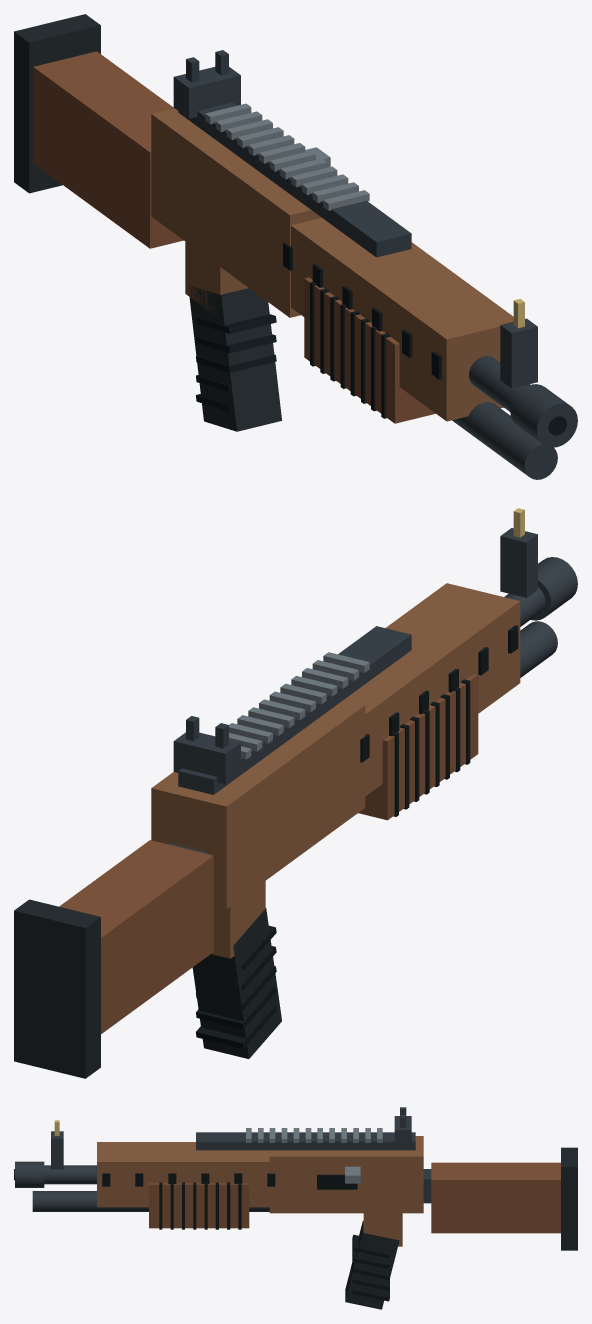
File: shotgun_01_warden.glb
3 renders of one model, top to bottom at view 1: azimuth 30°, elevation 25°; view 2: azimuth 150°, elevation 25°; view 3: azimuth 270°, elevation 25°, orthographic. The views are drawn at different scales.
Parts seen in each view (by area): view 1: handguard, stock_body, receiver, grip, buttpad, pump_foregrip, upper_rail, tube_magazine, muzzle_device, rear_sight_base, front_sight_base, grip_tang (+4 smaller); view 2: receiver, stock_body, handguard, buttpad, grip, pump_foregrip, upper_rail, rear_sight_base, front_sight_base, grip_tang, muzzle_device, tube_magazine (+1 smaller); view 3: stock_body, receiver, handguard, pump_foregrip, upper_rail, grip, buttpad, tube_magazine, barrel, grip_tang, muzzle_device, ejection_port (+4 smaller).
Part boxes in pixels (bbox=[...]): handguard: bbox=[291, 218, 513, 421]; stock_body: bbox=[33, 51, 183, 248]; receiver: bbox=[151, 108, 321, 317]; grip: bbox=[188, 285, 281, 431]; buttpad: bbox=[14, 14, 100, 193]; pump_foregrip: bbox=[304, 277, 435, 423]; upper_rail: bbox=[178, 102, 411, 257]; tube_magazine: bbox=[452, 402, 557, 479]; muzzle_device: bbox=[510, 384, 577, 447]; rear_sight_base: bbox=[173, 67, 240, 118]; front_sight_base: bbox=[500, 318, 537, 388]; grip_tang: bbox=[185, 241, 248, 315]; receiver: bbox=[151, 700, 365, 909]; stock_body: bbox=[59, 840, 213, 1033]; handguard: bbox=[344, 583, 520, 796]; buttpad: bbox=[14, 899, 100, 1078]; grip: bbox=[192, 908, 281, 1058]; pump_foregrip: bbox=[358, 674, 478, 820]; upper_rail: bbox=[178, 626, 411, 794]; rear_sight_base: bbox=[173, 732, 240, 784]; front_sight_base: bbox=[500, 528, 537, 597]; grip_tang: bbox=[211, 881, 265, 958]; muzzle_device: bbox=[530, 557, 577, 620]; tube_magazine: bbox=[520, 621, 557, 677]; stock_body: bbox=[431, 1162, 560, 1233]; receiver: bbox=[269, 1136, 423, 1213]; handguard: bbox=[97, 1142, 269, 1207]; pump_foregrip: bbox=[149, 1183, 249, 1228]; upper_rail: bbox=[196, 1132, 415, 1150]; grip: bbox=[345, 1220, 399, 1309]; buttpad: bbox=[561, 1147, 577, 1250]; tube_magazine: bbox=[32, 1191, 269, 1211]; barrel: bbox=[44, 1165, 96, 1184]; grip_tang: bbox=[363, 1213, 402, 1246]; muzzle_device: bbox=[15, 1161, 44, 1187]; ejection_port: bbox=[317, 1174, 357, 1189].
Bounding box in the file's own units: 0.1165 × 0.3366 × 0.8985.
